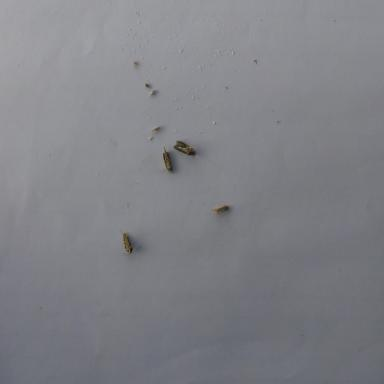pbw: (173, 141, 197, 158), (118, 230, 134, 254), (162, 145, 174, 173), (211, 205, 227, 215)
